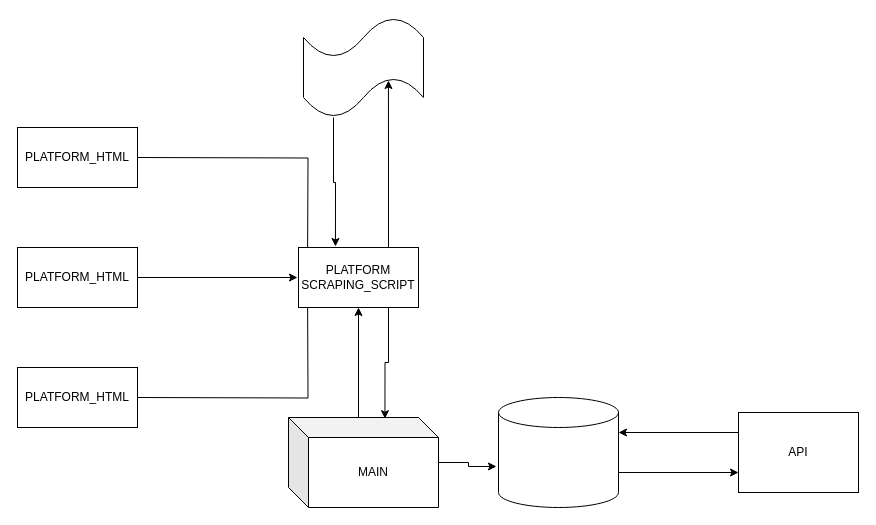
Image size: 876x525. Some labels were removed from this diagram. The shapes that lost their labels are listed below. From the top down, each one's centre as x and y in pixels, then its label:
[363,67]: VPN
[558,452]: MONGO EXPORT
